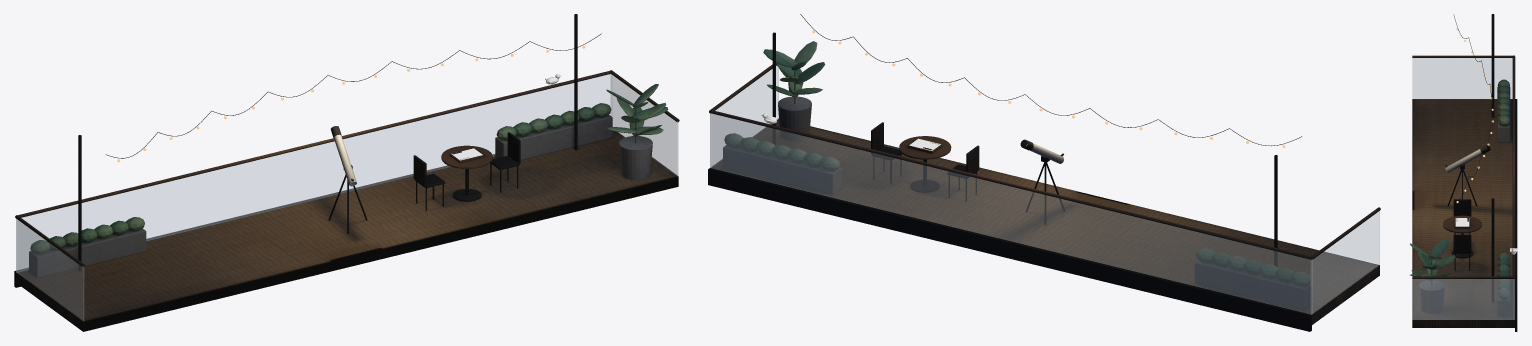
Rendered from balcony.glb.
3 renders of one model, left to right at view 1: azimuth 30°, elevation 25°; view 2: azimuth 150°, elevation 25°; view 3: azimuth 270°, elevation 25°, orthographic. The views are drawn at different scales.
Parts seen in each view (by area): view 1: balcony_baked, bal_glass_n, bal_glass_w, bal_glass_e; view 2: balcony_baked, bal_glass_n, bal_glass_w, bal_glass_e; view 3: balcony_baked, bal_glass_e, bal_glass_w, screen_backgammon.
Boxes of the visible parts, x1=… form: balcony_baked: x1=14, y1=14, x2=679, y2=331; bal_glass_n: x1=16, y1=74, x2=611, y2=272; bal_glass_w: x1=16, y1=219, x2=83, y2=320; bal_glass_e: x1=610, y1=74, x2=678, y2=176; balcony_baked: x1=708, y1=14, x2=1380, y2=331; bal_glass_n: x1=710, y1=113, x2=1312, y2=314; bal_glass_w: x1=1311, y1=211, x2=1379, y2=314; bal_glass_e: x1=710, y1=66, x2=778, y2=167; balcony_baked: x1=1410, y1=14, x2=1517, y2=331; bal_glass_e: x1=1412, y1=279, x2=1514, y2=319; bal_glass_w: x1=1412, y1=58, x2=1512, y2=98; screen_backgammon: x1=1455, y1=218, x2=1469, y2=226.
Size of the model in its own units: 12.04 by 2.9 by 2.49.
Materials: 8 (1 with a texture image).
